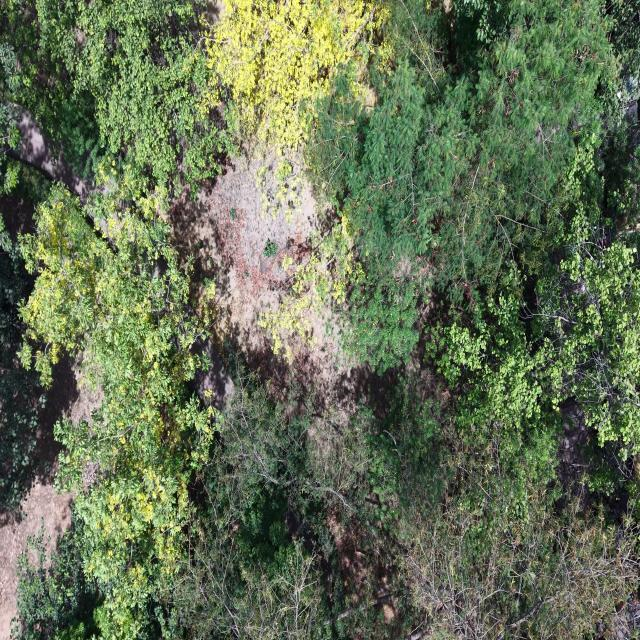DRY_AREA: (169, 158, 393, 466), (169, 158, 390, 463), (170, 159, 398, 450), (170, 159, 394, 451), (169, 158, 389, 448), (169, 158, 376, 419), (169, 154, 379, 404), (169, 156, 373, 412), (169, 158, 370, 412), (169, 154, 334, 375), (169, 155, 332, 375), (169, 157, 327, 365), (170, 155, 325, 349), (172, 157, 319, 352), (0, 361, 101, 639), (0, 363, 100, 639), (0, 364, 100, 639), (0, 362, 90, 639), (0, 481, 72, 639), (0, 106, 109, 202), (0, 106, 108, 202), (4, 107, 94, 201), (190, 338, 234, 408)
VEGETATION_TREE: (0, 0, 639, 639), (310, 2, 617, 365), (19, 164, 214, 636), (0, 0, 232, 186), (170, 365, 327, 639), (202, 0, 388, 150), (0, 213, 45, 514), (0, 232, 44, 511), (17, 527, 101, 639)
